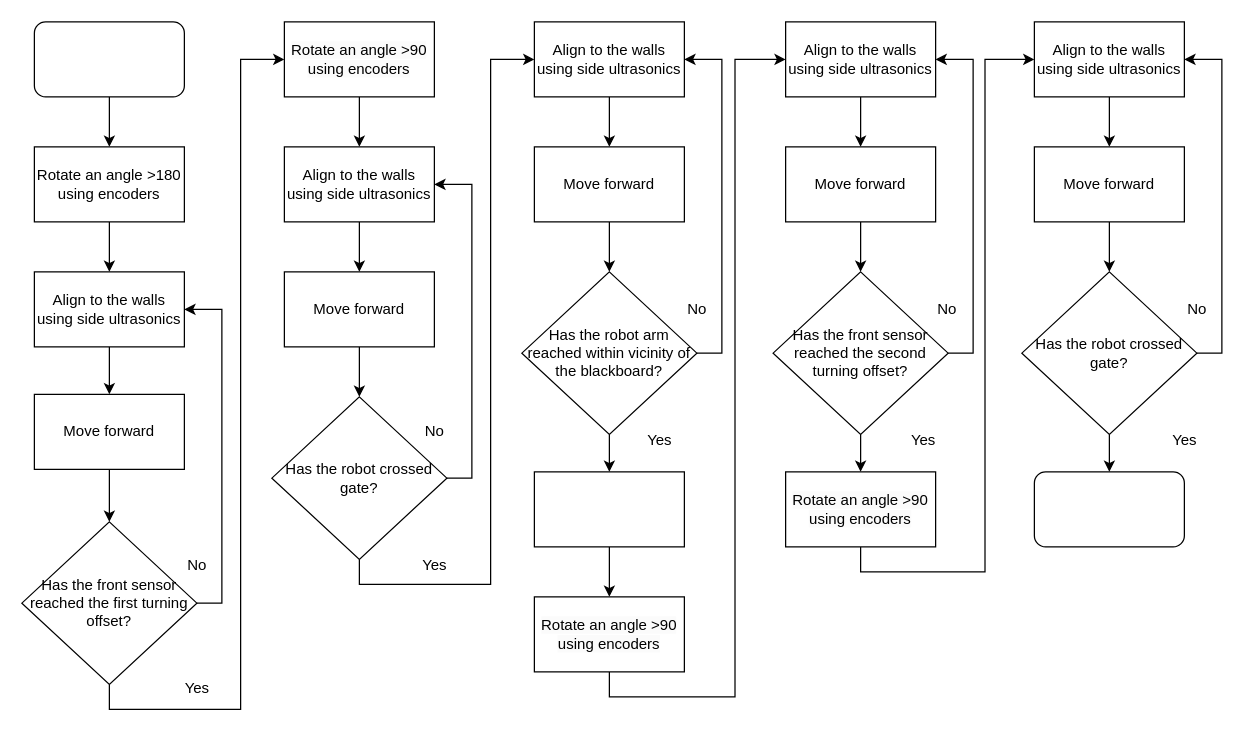
This 1254x741 diagram has some shape labels left out. Each missing label, with the centre of its shape:
Actuate arm to make contact and retract: point (608, 509)
Start: point (108, 59)
Stop: point (1108, 509)
